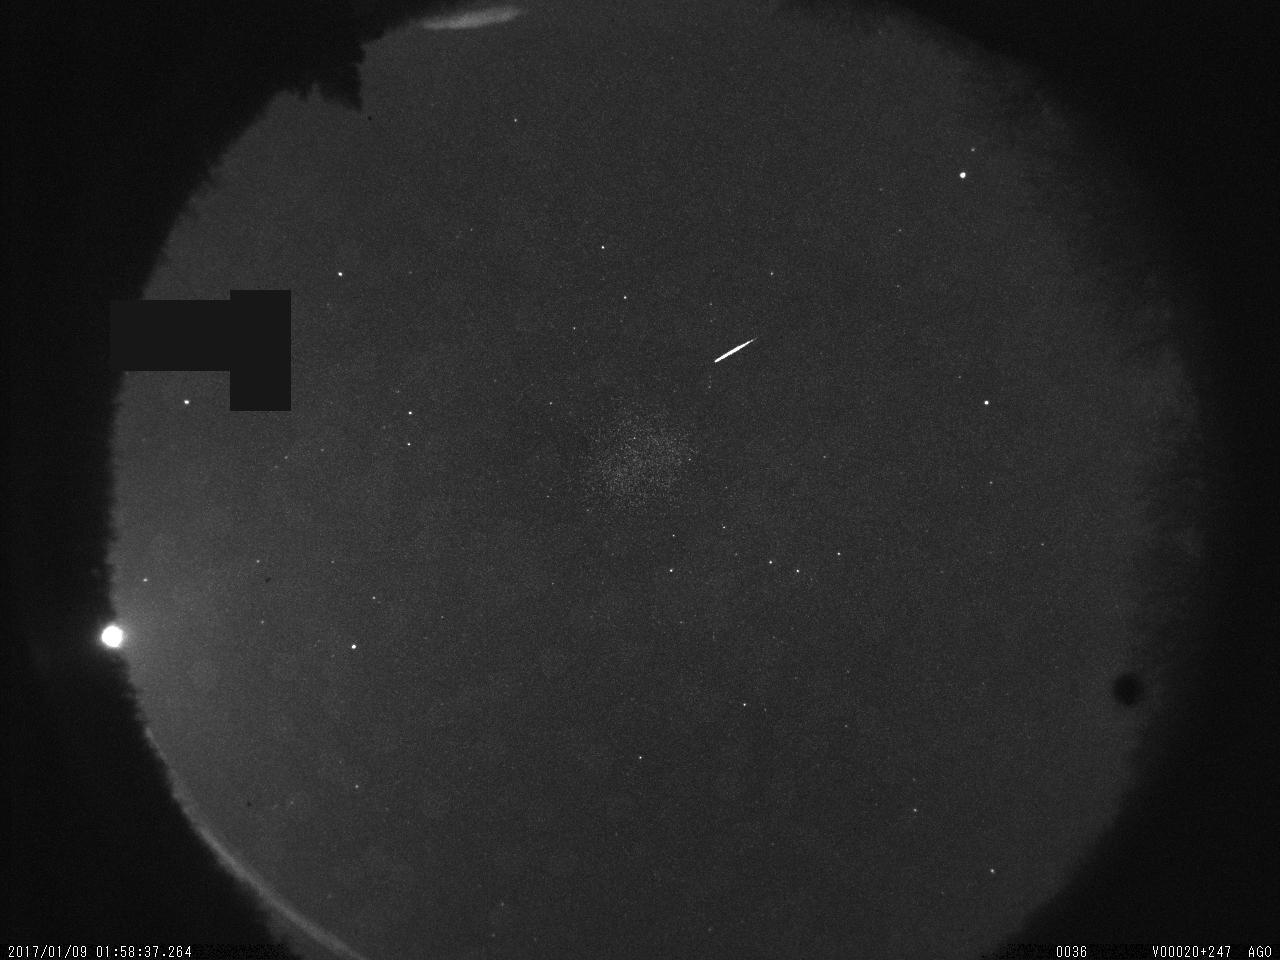Meteor: (700, 330, 769, 377)
